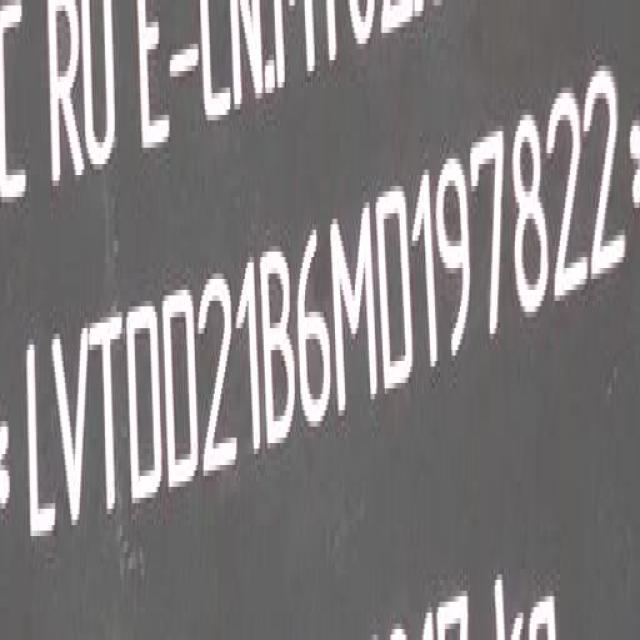1: (411, 148, 440, 371), (234, 251, 265, 458)
2: (582, 62, 628, 286), (546, 75, 590, 306), (198, 268, 238, 474)
6: (294, 225, 332, 444)
7: (468, 124, 508, 356)
8: (510, 101, 551, 318)
9: (436, 150, 473, 367)
B: (258, 237, 299, 458)
D: (162, 286, 201, 496), (125, 296, 164, 504), (376, 184, 414, 391)
L: (23, 340, 57, 547)
M: (328, 207, 381, 417)
T: (86, 304, 124, 510)
V: (50, 318, 90, 539)
